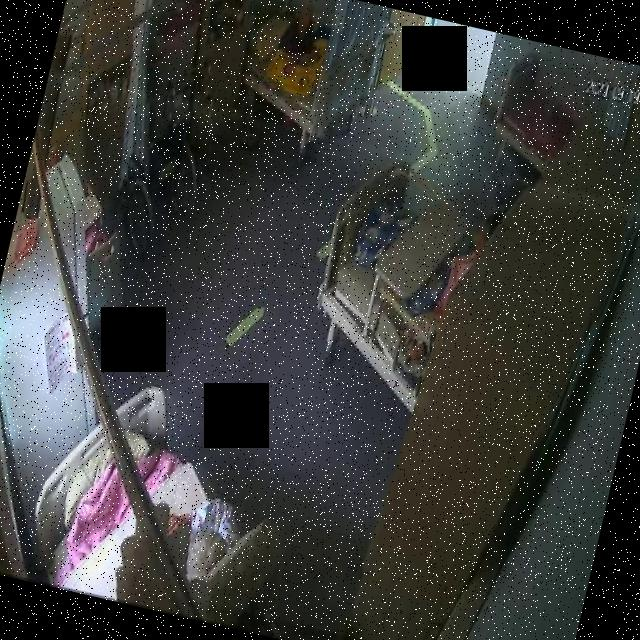bed: (18, 364, 304, 634), (301, 152, 493, 407), (233, 0, 386, 142), (484, 45, 590, 177)
